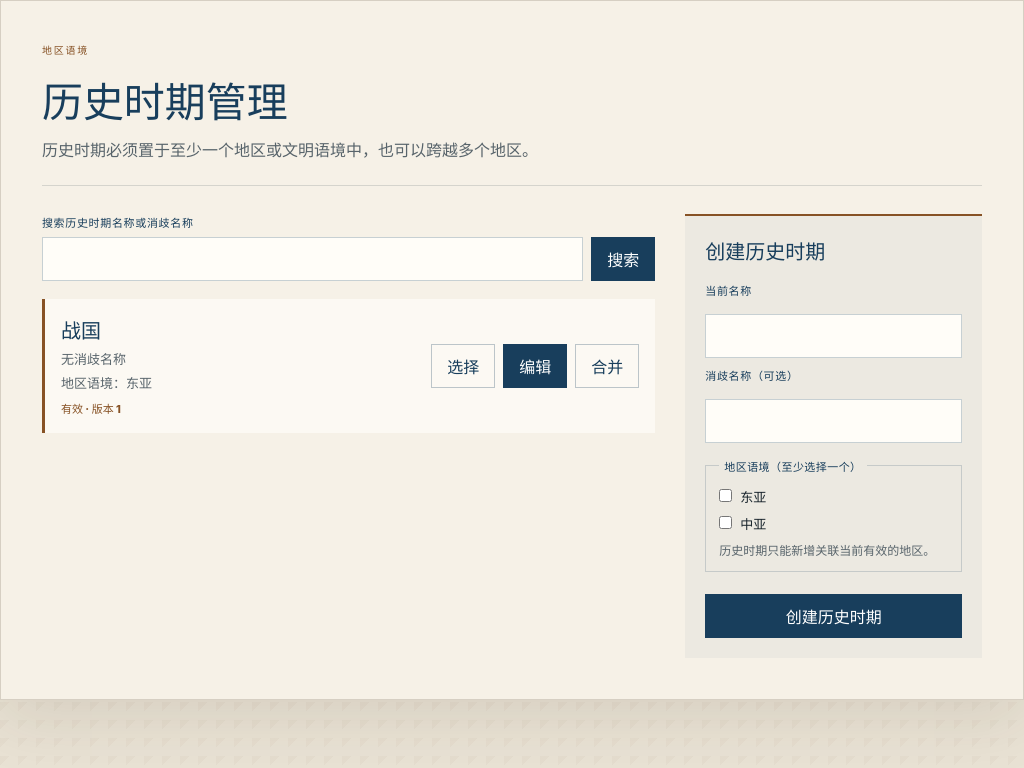
地点与历史时期管理 › 历史时期要求地区语境，管理员修改关系时提交所见版本
Expected: the text "地区语境：东亚" is shown, [61,373,152,392]
In the field labelled "当前名称": point(834, 336) [705,314,962,358], type "空语境时期"
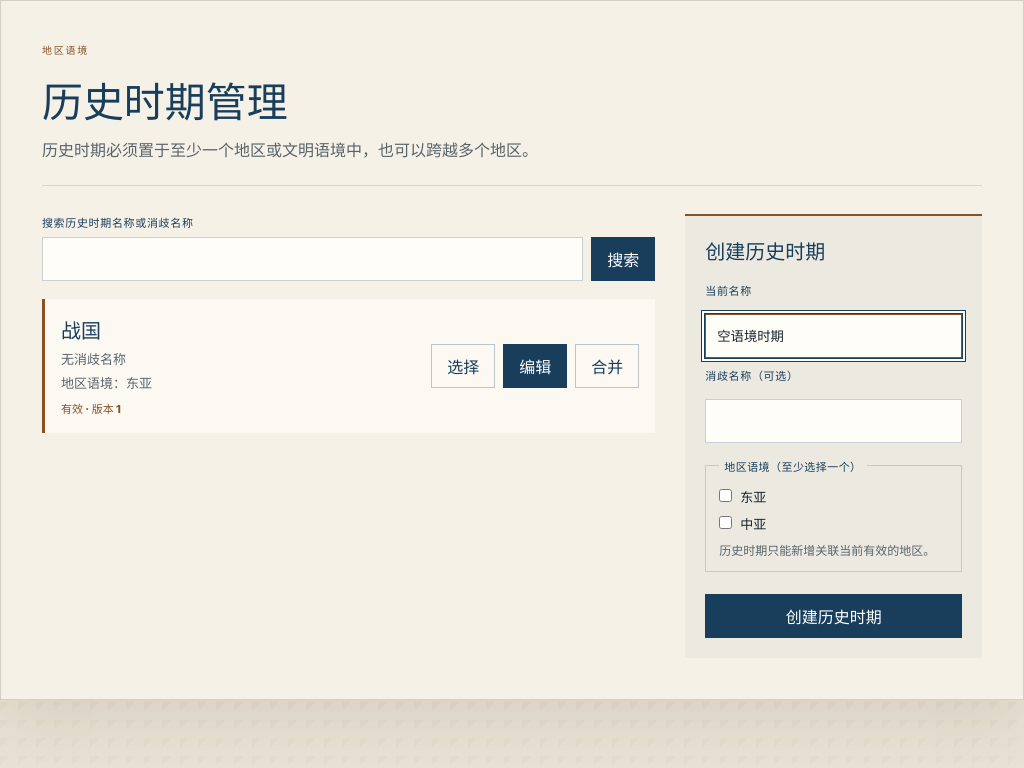
Click the button "创建历史时期": point(834, 616) [705,594,962,638]
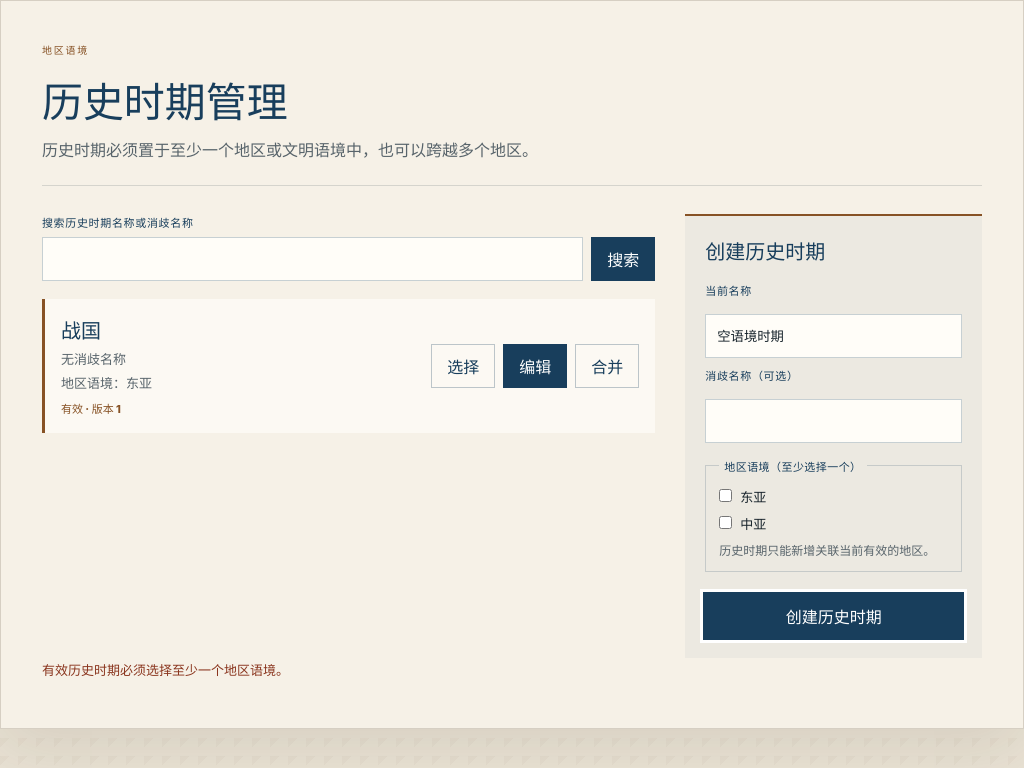
Expected: the text "有效历史时期必须选择至少一个地区语境。" is shown, [42,662,289,678]
Click the button "编辑": point(535, 366) [503,344,567,388]
(page scrolled)
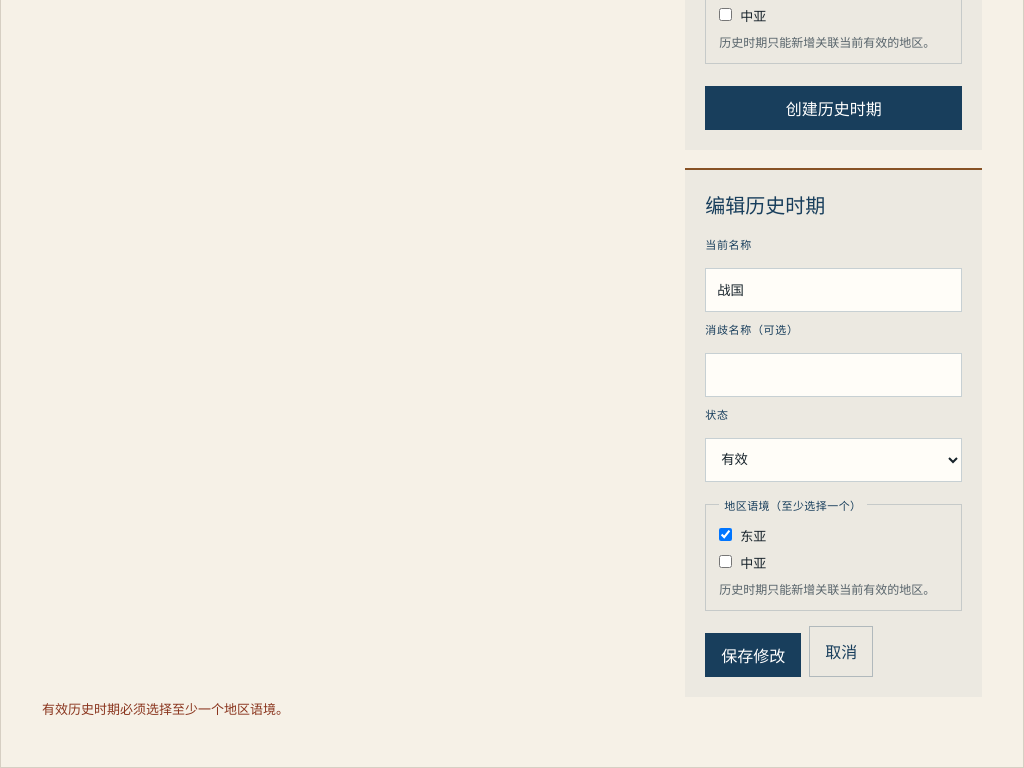
Click the checkbox labelled "中亚" below "状态": point(726, 562) [719,555,732,568]
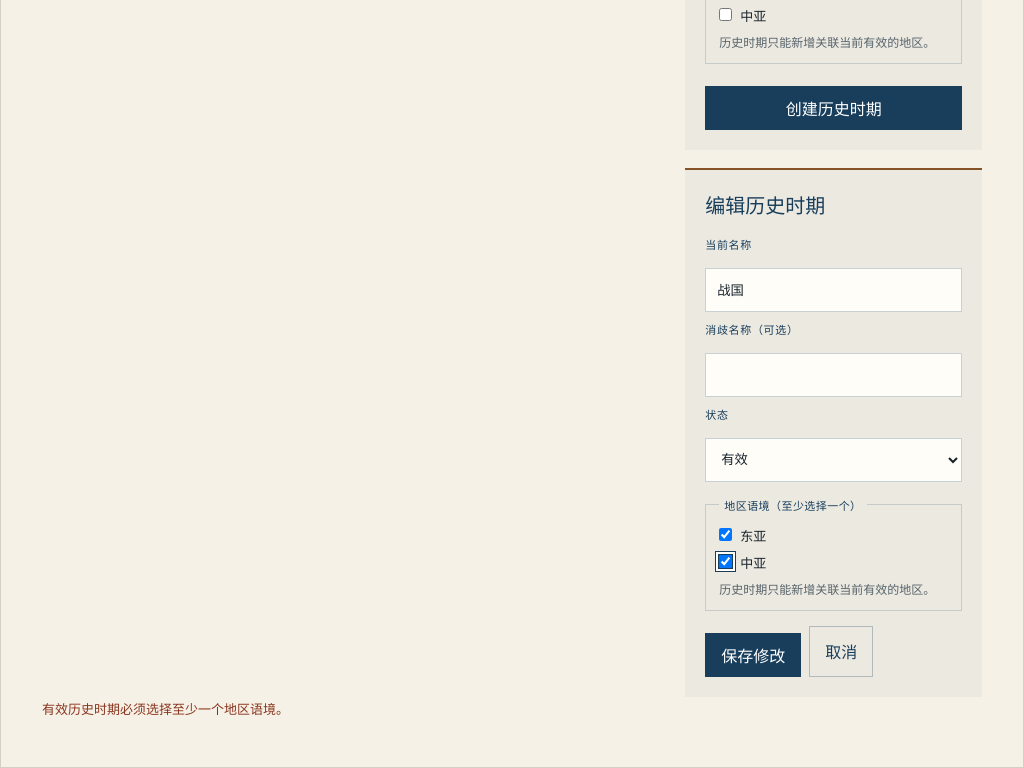
Click the button "保存修改": point(753, 655) [705,633,801,677]
(page scrolled)
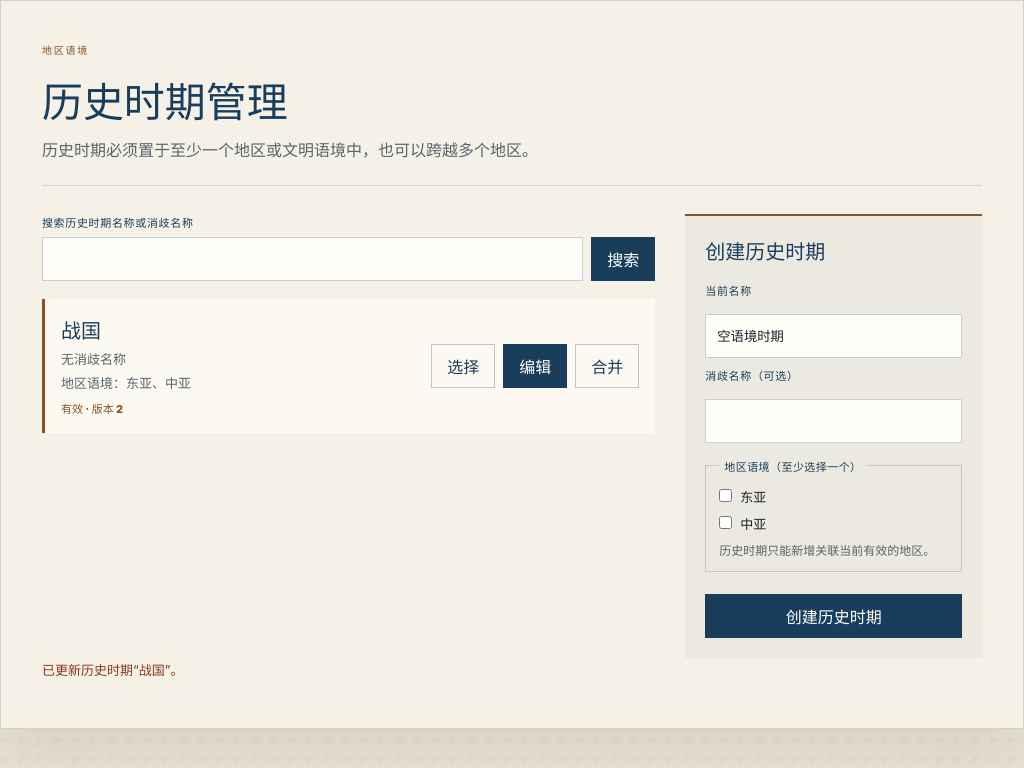
Expected: the text "已更新历史时期“战国”。" is shown, [42,662,184,678]
